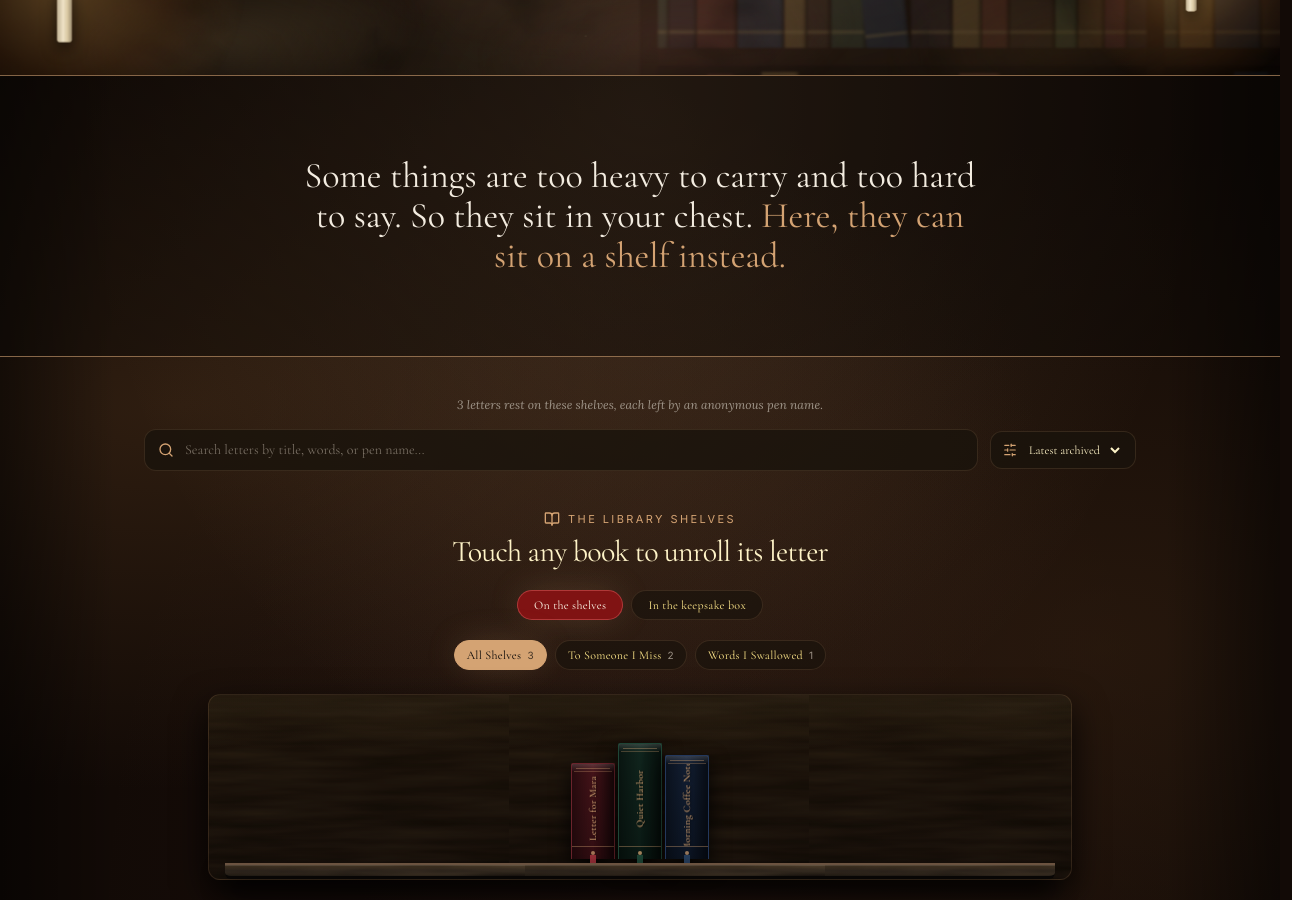
Test: PublicFeedPage search and sort (R7) › composes search with the bookshelf section browsing as an intersection
This screenshot has width=1292, height=900.
(page scrolled)
Expected: the text "Letter for Mara" is shown, [586, 776, 598, 841]
In the field labelled "Search letters by title, words, or pen name...": (561, 450) [144, 429, 978, 471], type "morn"
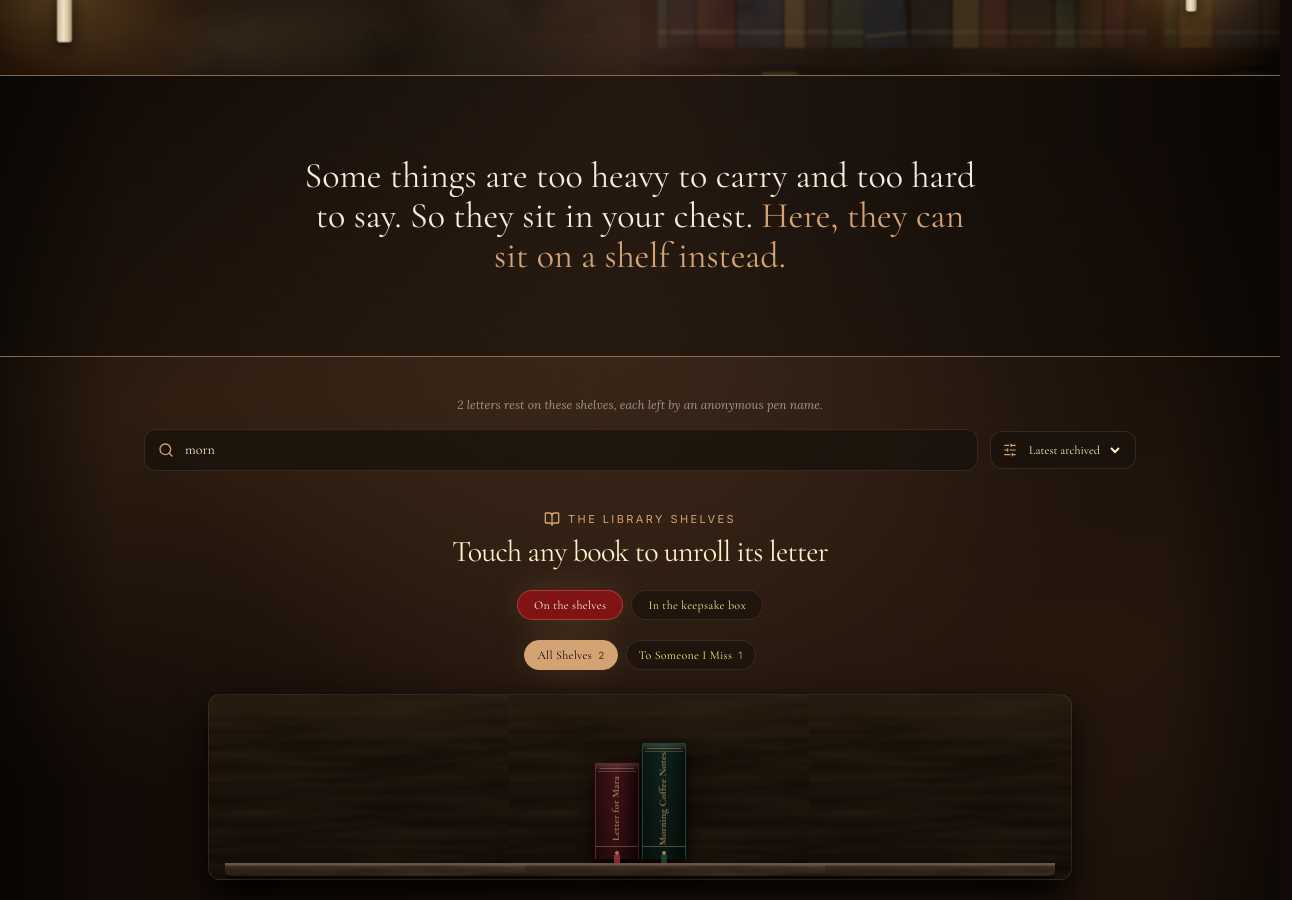
Expected: the text "Morning Coffee Notes" is shown, [657, 752, 669, 845]
Expected: the text "Letter for Mara" is shown, [610, 776, 622, 841]
Click the button "To Someone I Miss1": (691, 654) [626, 640, 756, 670]
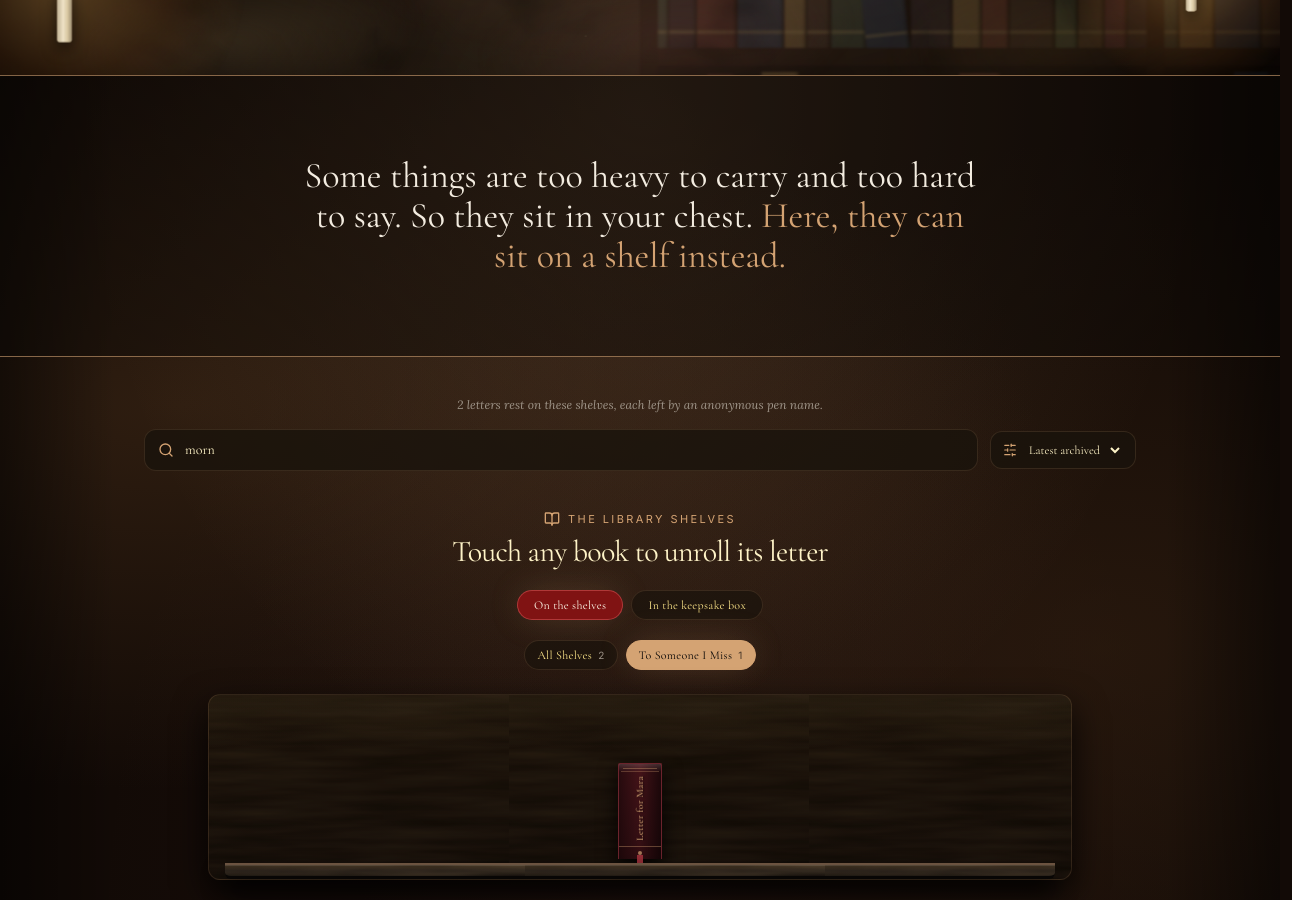
Expected: the text "Letter for Mara" is shown, [634, 776, 646, 841]
Now the text "Morning Coffee Notes" is gone
